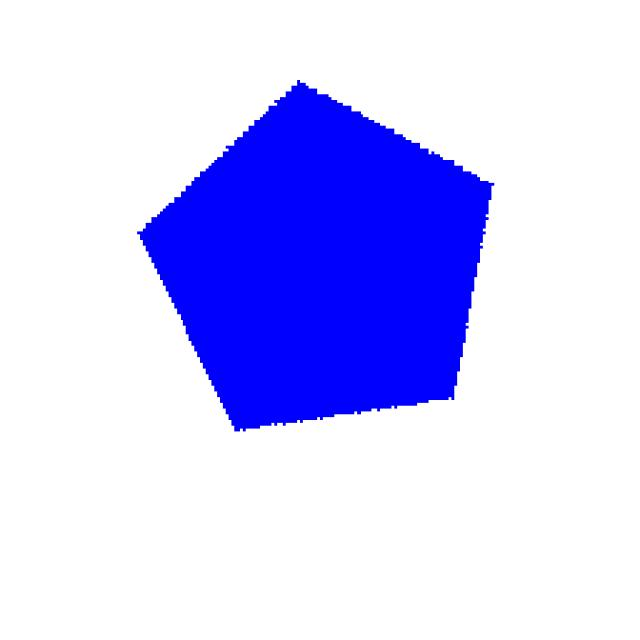Pentagon: (110, 46, 577, 451)
